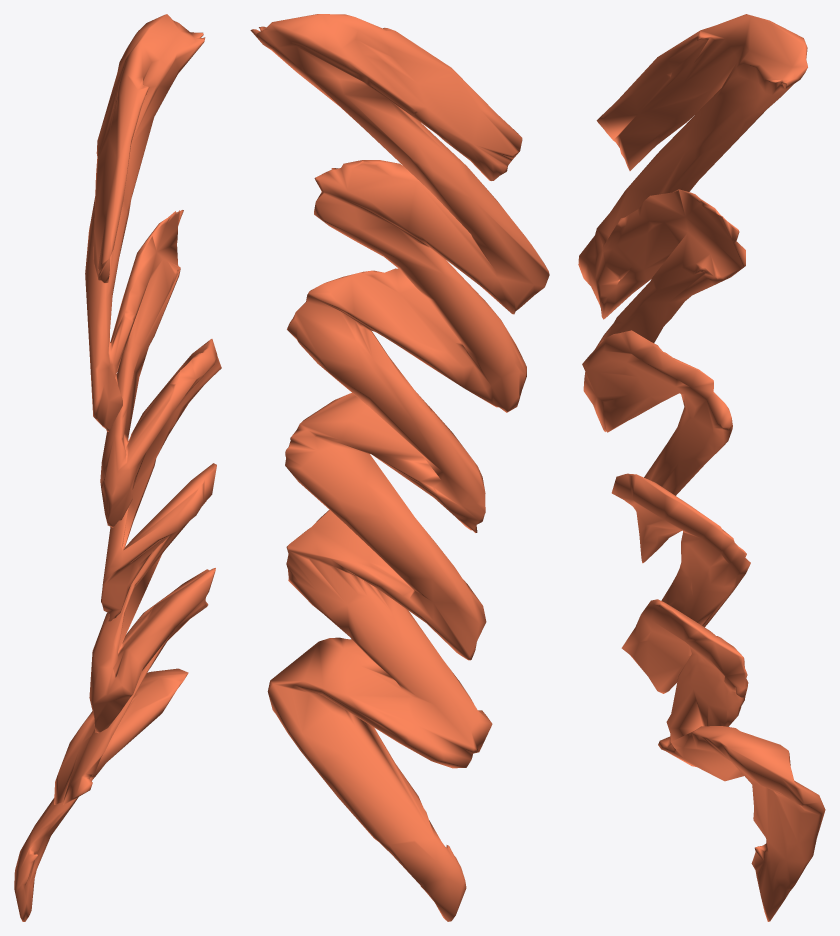
Rendered from Multifidus_colli_muscle.r_Generated_Mesh_From_X3D.345.glb.
The picture shows the model from 3 angles, left to right: view 1: azimuth 30°, elevation 25°; view 2: azimuth 150°, elevation 25°; view 3: azimuth 270°, elevation 25°; orthographic projection. The views are drawn at different scales.
Visible parts, largest first — view 1: Multifidus_colli_muscle.r_Generated_Mesh_From_X3D.345; view 2: Multifidus_colli_muscle.r_Generated_Mesh_From_X3D.345; view 3: Multifidus_colli_muscle.r_Generated_Mesh_From_X3D.345.
Boxes of the visible parts, bbox=[...] form: Multifidus_colli_muscle.r_Generated_Mesh_From_X3D.345: bbox=[14, 14, 221, 921]; Multifidus_colli_muscle.r_Generated_Mesh_From_X3D.345: bbox=[250, 14, 549, 921]; Multifidus_colli_muscle.r_Generated_Mesh_From_X3D.345: bbox=[578, 14, 825, 921].
Size of the model in its own units: 0.0239 by 0.098 by 0.0226.
